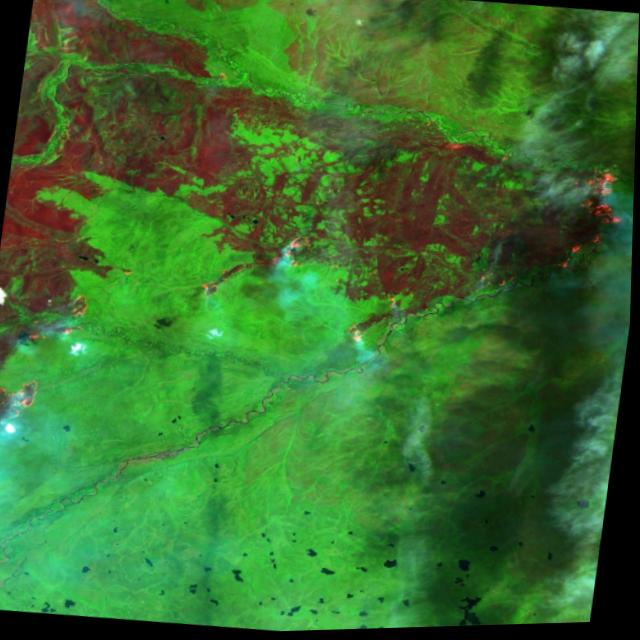fire: (0, 271, 98, 427), (190, 220, 326, 320), (545, 161, 635, 290), (336, 292, 414, 358)
